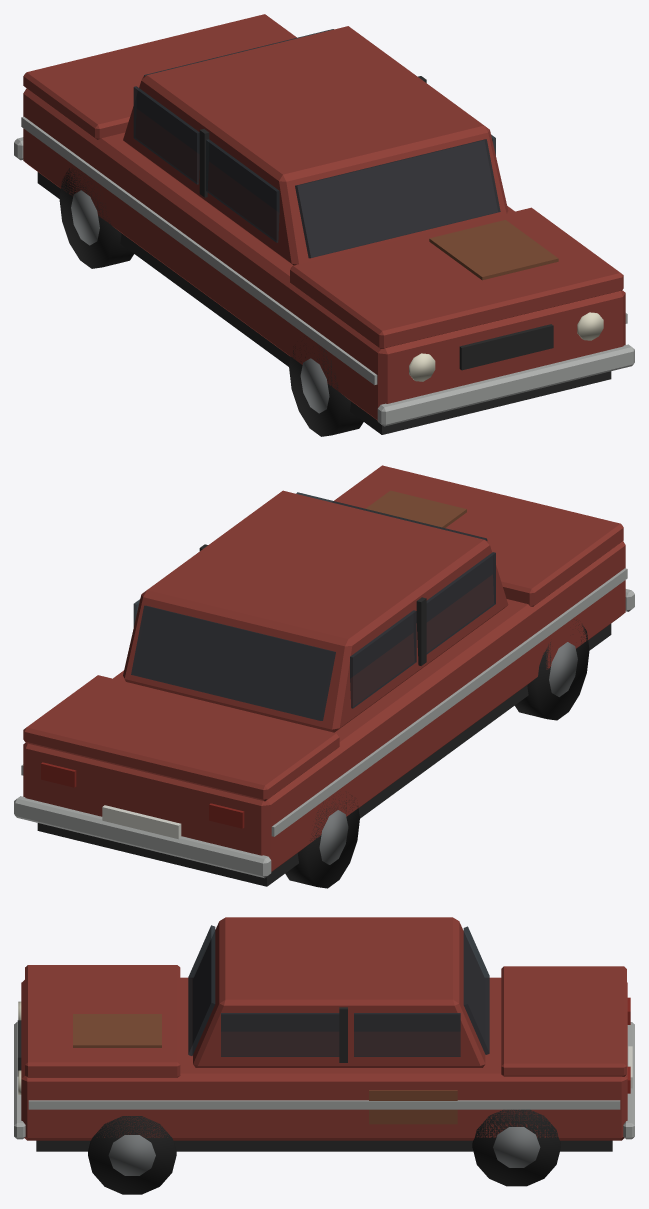
File: car_red.glb
The picture shows the model from 3 angles, top to bottom: view 1: azimuth 30°, elevation 25°; view 2: azimuth 150°, elevation 25°; view 3: azimuth 270°, elevation 25°; orthographic projection. The views are drawn at different scales.
Parts seen in each view (by area): view 1: Car; view 2: Car; view 3: Car.
Part boxes in pixels (x1,y1,x2,y2): Car: (14, 14, 634, 436); Car: (14, 465, 634, 888); Car: (14, 917, 634, 1194).
Size of the model in its own units: 1.66 by 1.38 by 4.2.
